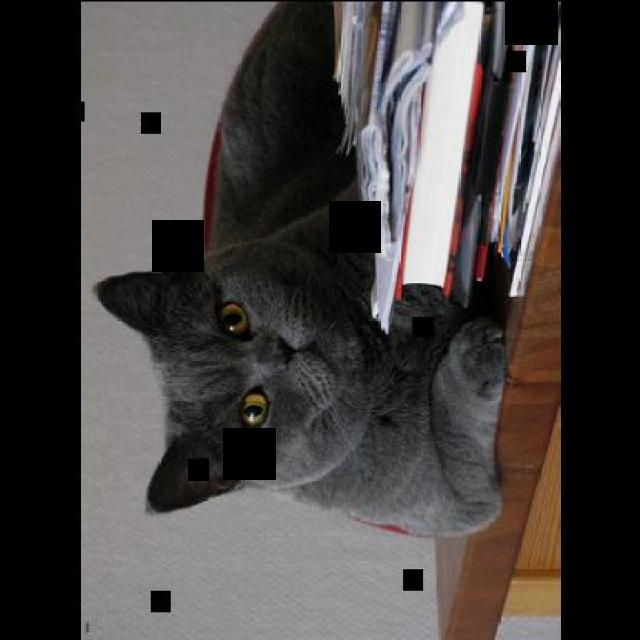unauthorized: (92, 0, 509, 538)
